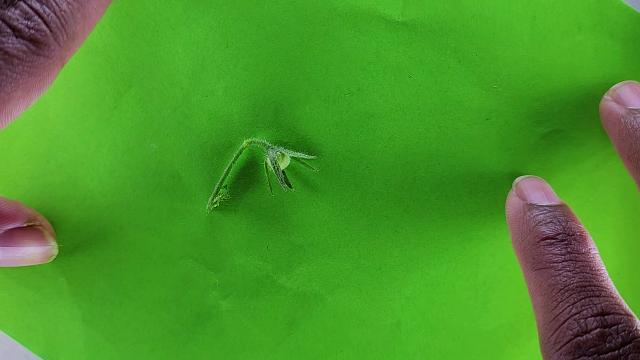Fruit Bud: (263, 140, 320, 193)
